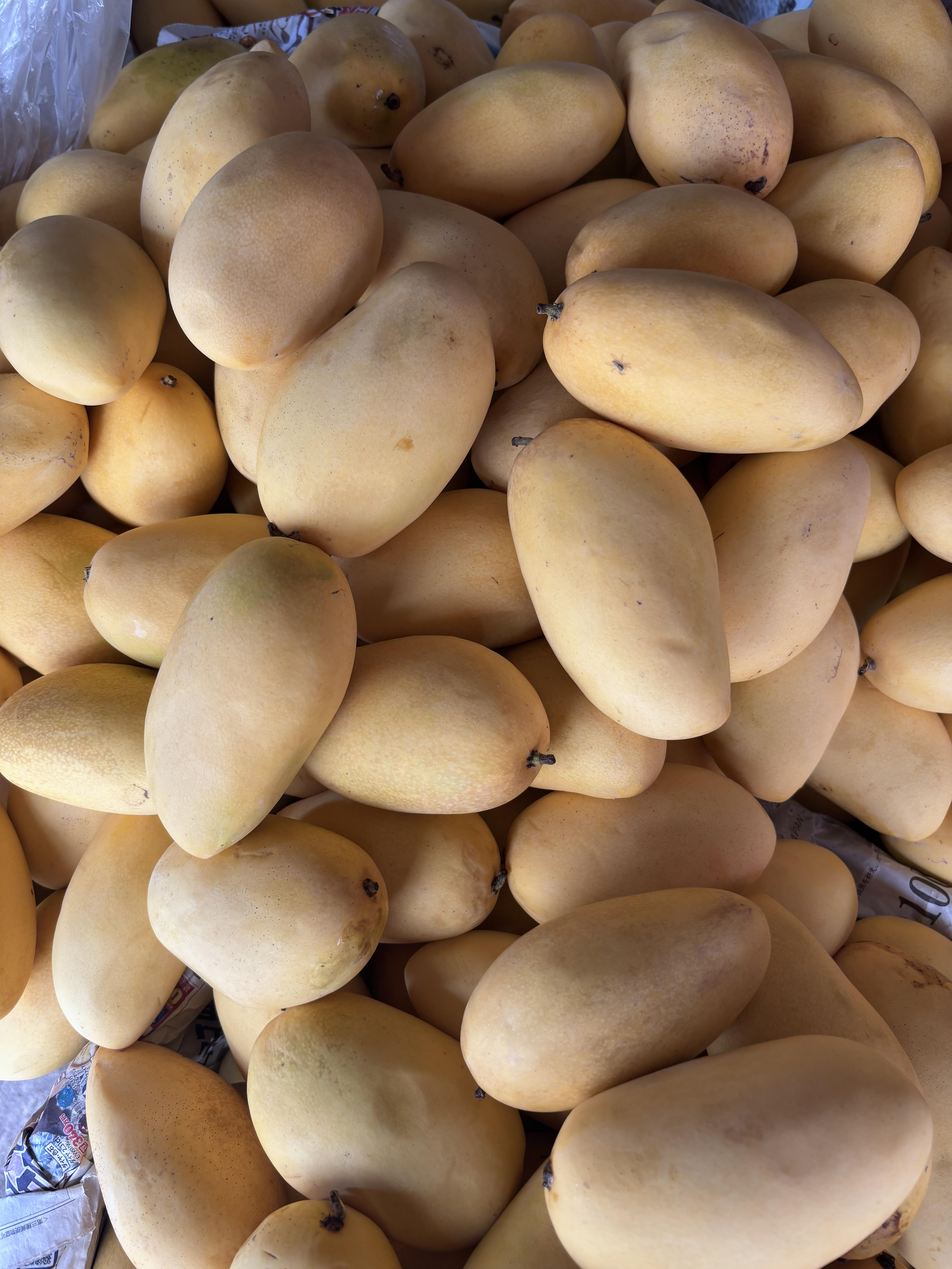mango: (545, 1035, 932, 1269), (508, 419, 730, 739), (257, 262, 494, 558), (461, 888, 769, 1114), (145, 536, 356, 858), (544, 268, 863, 453), (169, 132, 383, 370)
occluded: (248, 992, 524, 1254), (148, 815, 388, 1007), (87, 1042, 287, 1269), (306, 635, 550, 814), (505, 764, 776, 923), (702, 439, 870, 687), (140, 40, 309, 282), (710, 893, 919, 1087), (835, 942, 952, 1269), (358, 191, 548, 389), (389, 62, 625, 218), (617, 5, 793, 198), (279, 792, 502, 944), (704, 597, 862, 802), (338, 489, 541, 648), (0, 215, 166, 405), (52, 815, 184, 1049), (84, 514, 268, 667), (770, 50, 941, 212), (557, 184, 797, 294), (503, 637, 666, 798), (762, 138, 924, 286), (82, 362, 228, 525), (807, 676, 952, 840), (0, 664, 156, 815), (808, 0, 952, 162), (0, 513, 136, 674), (779, 279, 920, 428), (89, 35, 246, 154), (504, 178, 655, 301), (290, 13, 426, 148), (471, 360, 600, 492), (0, 890, 85, 1080), (882, 247, 952, 465), (0, 373, 88, 535), (743, 838, 858, 955), (231, 1191, 400, 1269), (860, 573, 952, 714), (404, 930, 519, 1040), (16, 149, 145, 246), (378, 0, 494, 105), (464, 1165, 578, 1269), (214, 350, 302, 483), (7, 785, 113, 891), (844, 1155, 932, 1260), (844, 435, 909, 562), (0, 805, 36, 1018), (496, 12, 612, 75), (847, 915, 952, 980), (896, 444, 952, 561), (501, 0, 654, 42), (214, 990, 282, 1079), (153, 303, 214, 399), (883, 806, 952, 884), (131, 0, 225, 53), (592, 20, 641, 83), (211, 0, 315, 26), (752, 9, 811, 52), (92, 1216, 135, 1269), (225, 460, 263, 515), (352, 147, 399, 189), (0, 648, 23, 706), (286, 767, 324, 798), (654, 0, 725, 16), (749, 28, 788, 50), (331, 975, 369, 997)
